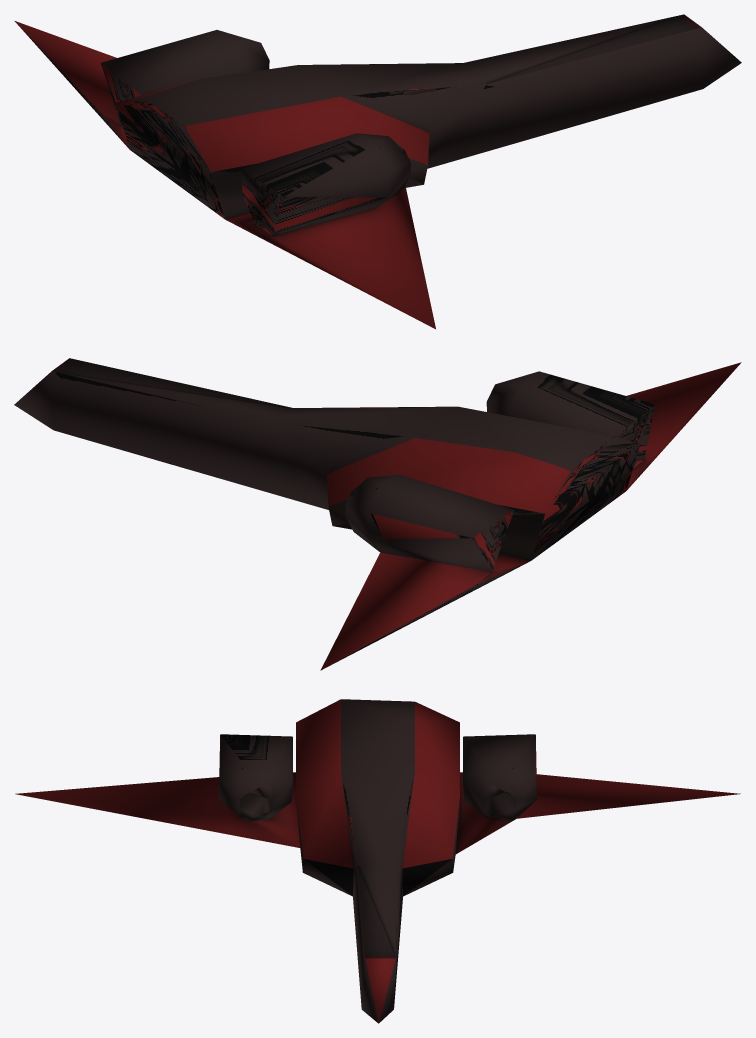
The picture shows the model from 3 angles, top to bottom: view 1: azimuth 30°, elevation 25°; view 2: azimuth 150°, elevation 25°; view 3: azimuth 270°, elevation 25°; orthographic projection. The views are drawn at different scales.
Visible parts, largest first — view 1: Sam; view 2: Sam; view 3: Sam.
Part boxes in pixels (<box>): Sam: <box>14,14,741,329</box>; Sam: <box>14,358,741,670</box>; Sam: <box>15,699,740,1023</box>.
Size of the model in its own units: 88.71 by 16.12 by 112.
